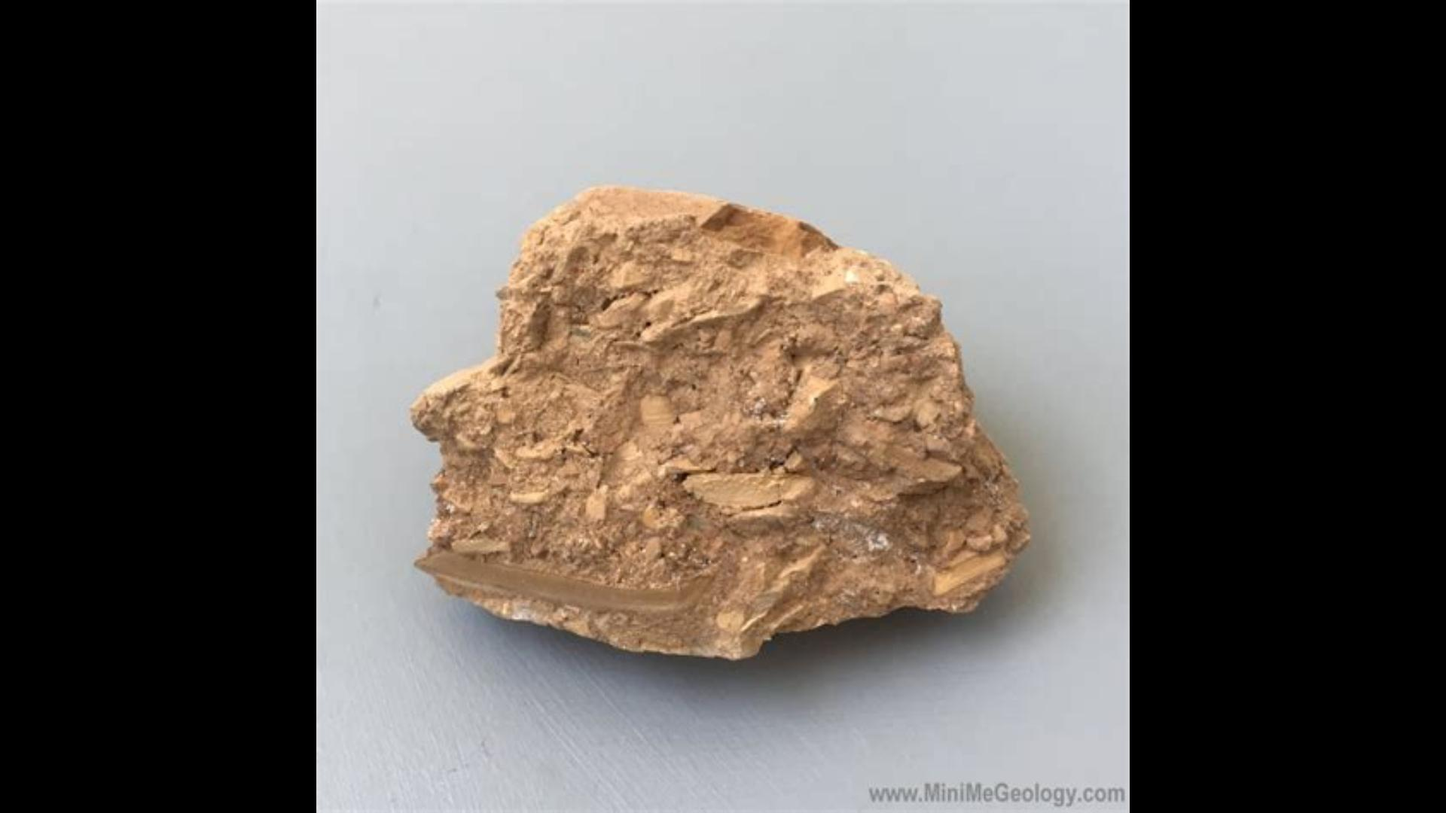rock: (412, 189, 1027, 655)
